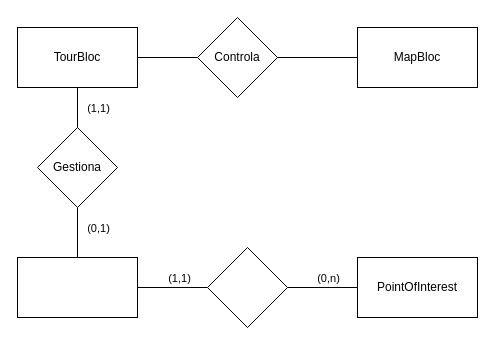
Image size: 495x345. Some labels were removed from this diagram. Each missing label, with the box of its shape:
EcoCityTour: (16, 256, 138, 318)
Posee: (206, 246, 288, 328)
